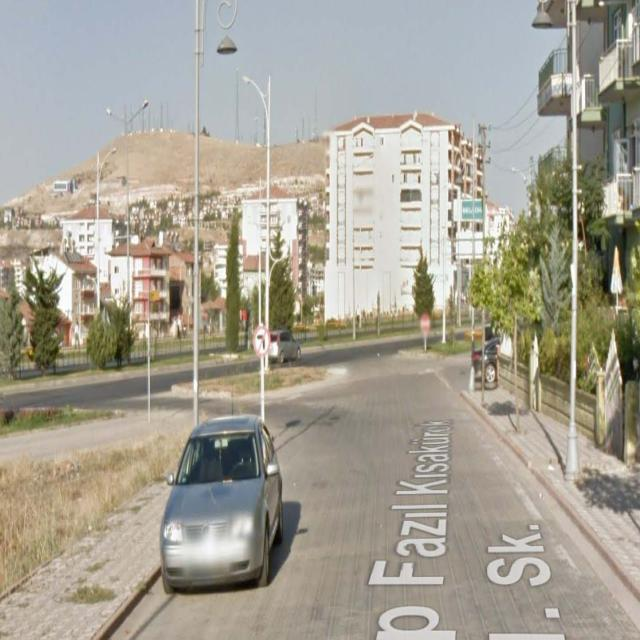soladonulmez: (254, 327, 271, 355)
